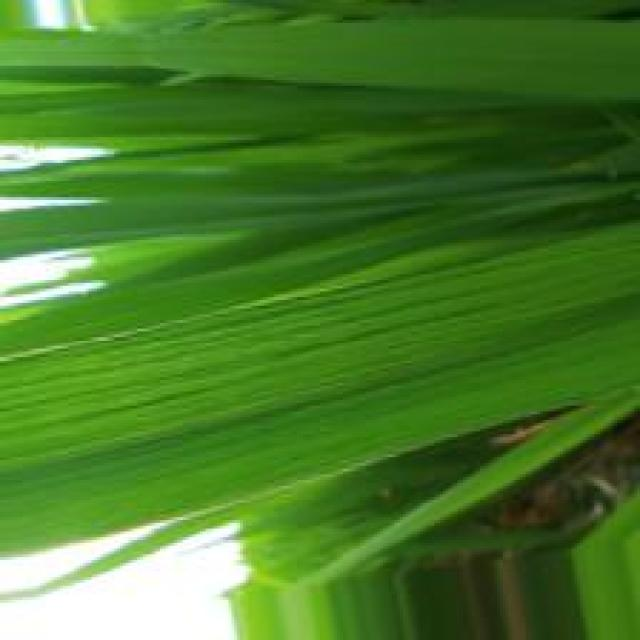HealthyLeaf: (18, 265, 610, 512)
